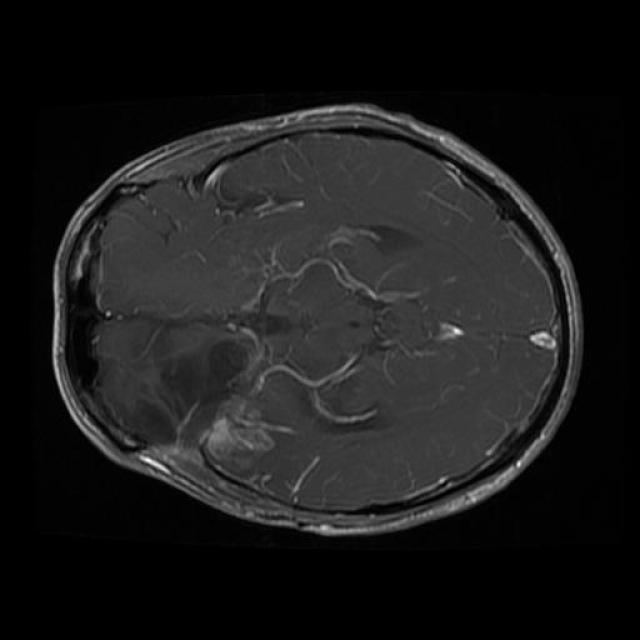Glioma: (92, 307, 273, 469)
